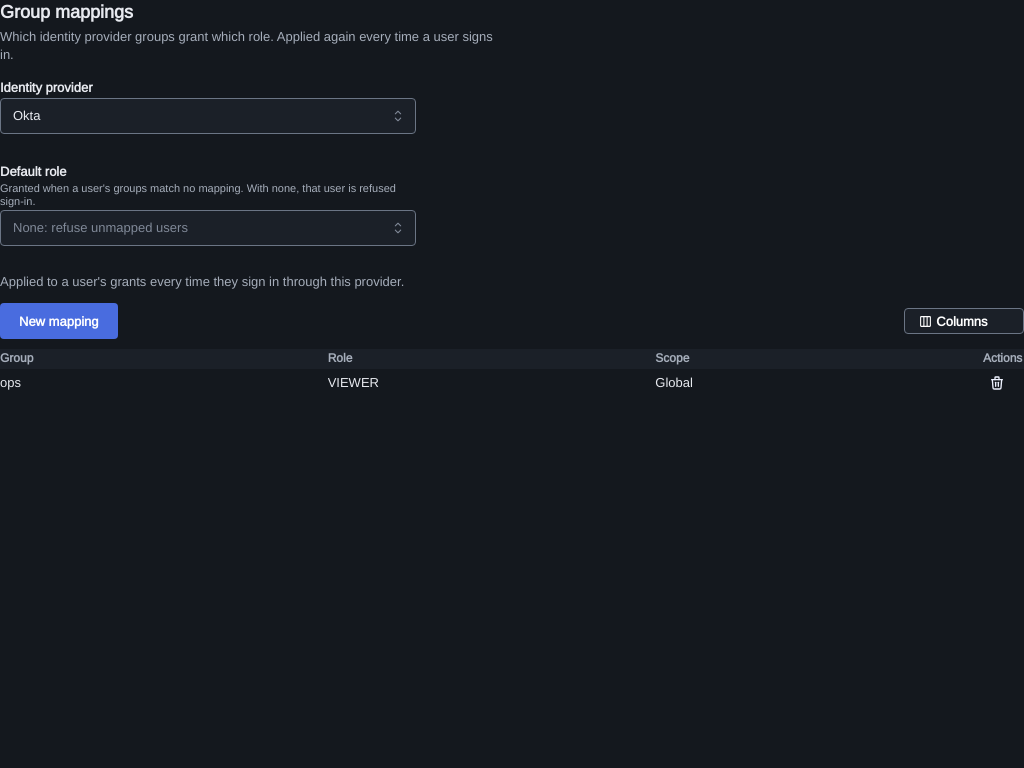
it: GroupMappingPanel › deletes a mapping after one confirmation, since it is added back as easily, and announces it
Click the button named "Delete mapping for ops": (997, 383) [983,369,1011,397]
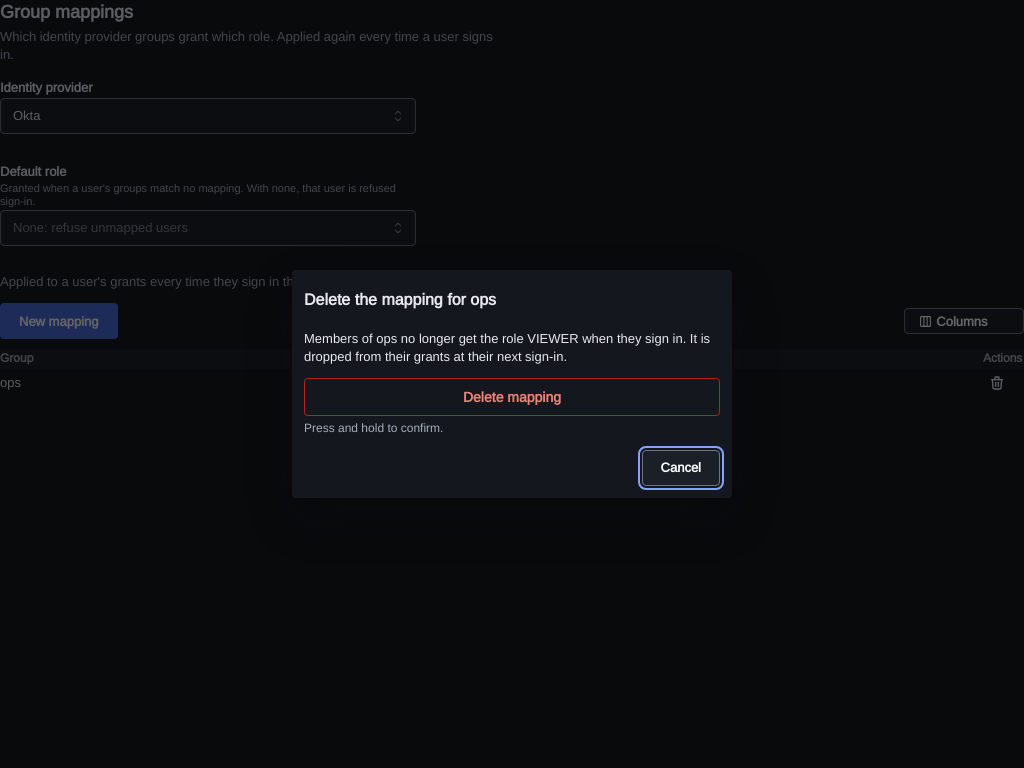
Press the mouse on the button "Delete mapping Delete mapping": (512, 398) [304,378,720,416]
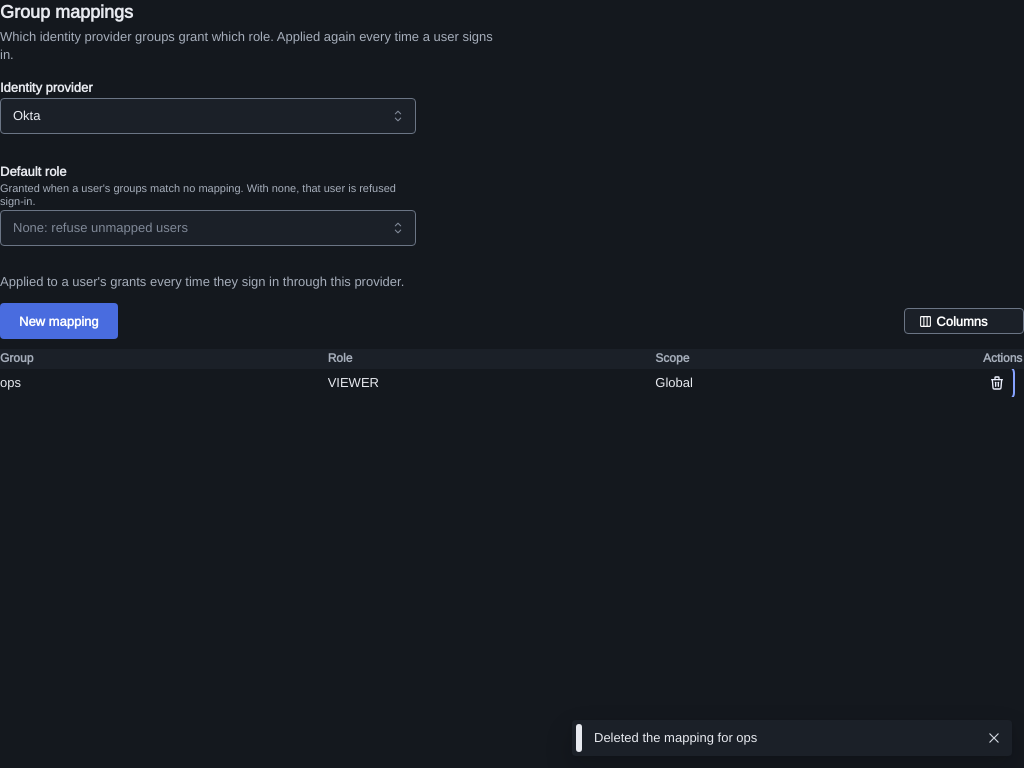
Check: the message reads "Deleted the mapping for ops", box [594,729,757,746]
